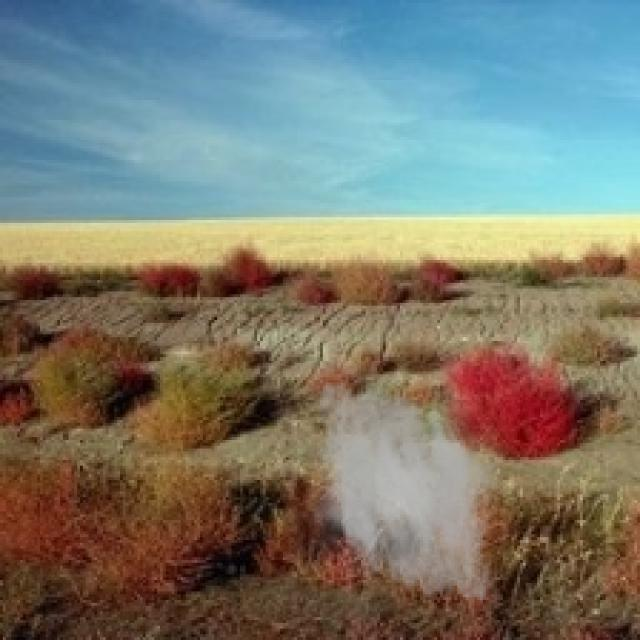Smoke: (303, 372, 512, 612)
